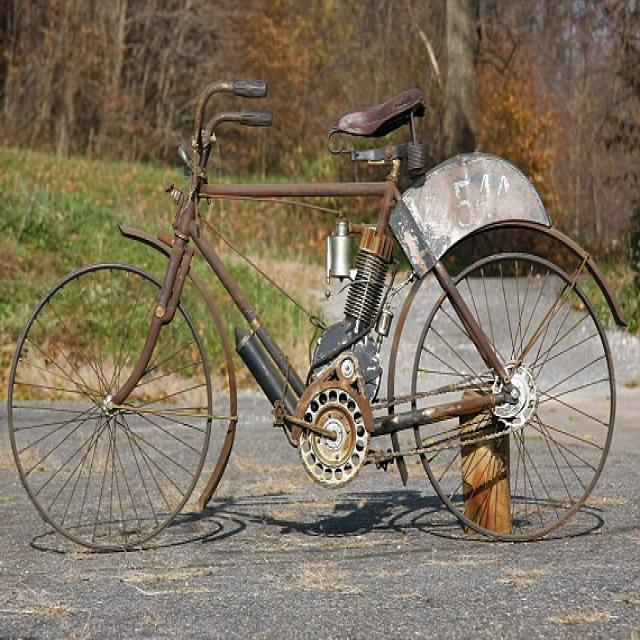bicycle: (9, 82, 622, 548)
